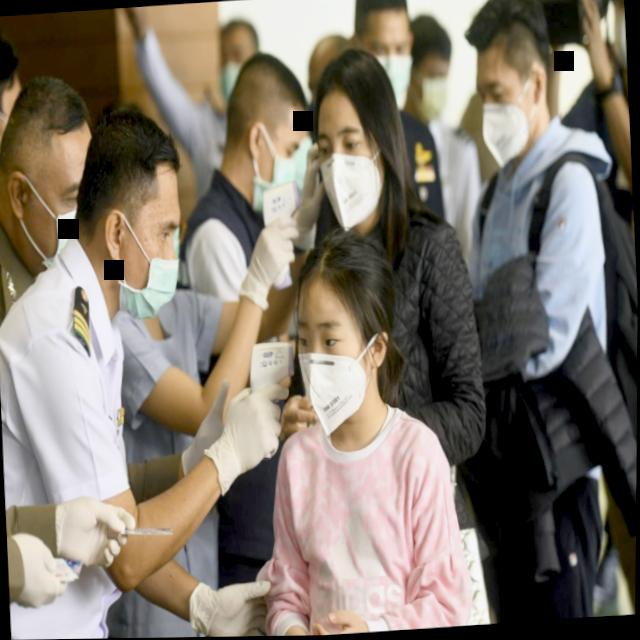Mask: (71, 92, 189, 339), (281, 220, 392, 445), (0, 67, 103, 283), (215, 41, 315, 221), (455, 0, 557, 176), (310, 39, 396, 243), (347, 0, 421, 124)
